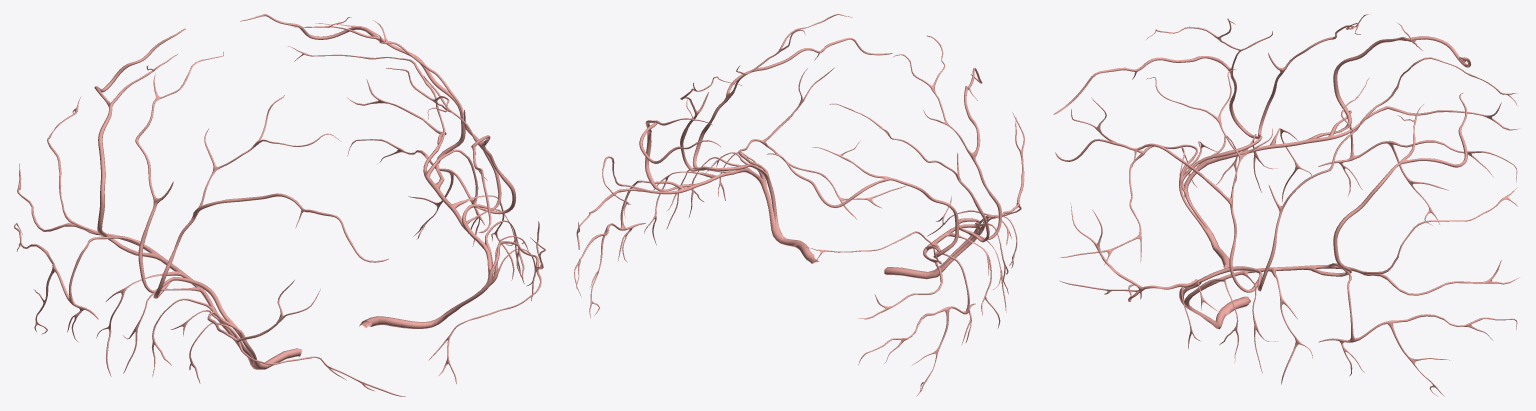
File: Cerebral_arteries.fbx
3 renders of one model, left to right at view 1: azimuth 30°, elevation 25°; view 2: azimuth 150°, elevation 25°; view 3: azimuth 270°, elevation 25°, orthographic. The views are drawn at different scales.
Visible parts, largest first — view 1: FMA50082_Right_middle_cerebral_artery, FMA50083_Left_middle_cerebral_artery; view 2: FMA50083_Left_middle_cerebral_artery, FMA50082_Right_middle_cerebral_artery; view 3: FMA50083_Left_middle_cerebral_artery, FMA50082_Right_middle_cerebral_artery.
Boxes of the visible parts, x1,y1,x2,y2 form: FMA50082_Right_middle_cerebral_artery: (14,28,405,396); FMA50083_Left_middle_cerebral_artery: (240,14,545,383); FMA50083_Left_middle_cerebral_artery: (574,14,906,318); FMA50082_Right_middle_cerebral_artery: (767,35,1024,396); FMA50083_Left_middle_cerebral_artery: (1055,69,1519,396); FMA50082_Right_middle_cerebral_artery: (1053,14,1518,268).
Size of the model in its own units: 11.73 by 7.85 by 12.5.
